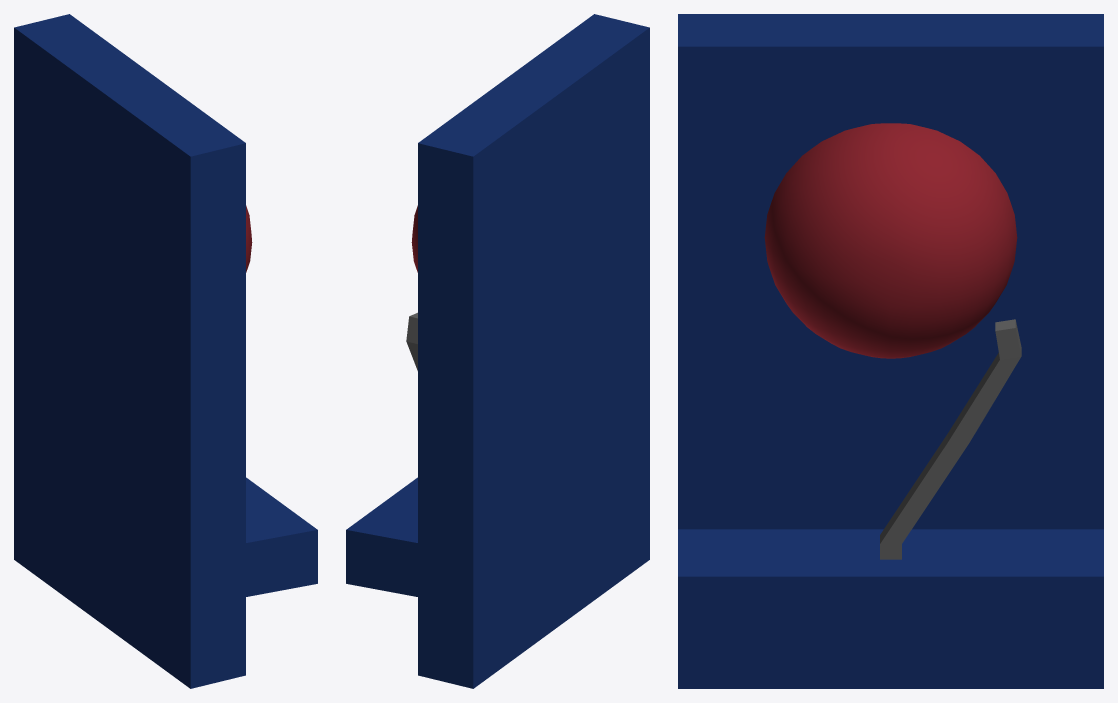
The model's file is RingBell.fbx.
The picture shows the model from 3 angles, left to right: view 1: azimuth 30°, elevation 25°; view 2: azimuth 150°, elevation 25°; view 3: azimuth 270°, elevation 25°; orthographic projection. The views are drawn at different scales.
Visible parts, largest first — view 1: Cube; view 2: Cube; view 3: Cube.
Part boxes in pixels (x1=…): Cube: x1=14, y1=14, x2=317, y2=688; Cube: x1=346, y1=14, x2=649, y2=688; Cube: x1=678, y1=14, x2=1103, y2=688.
Bounding box in the file's own units: 29.29 × 65.91 × 110.
